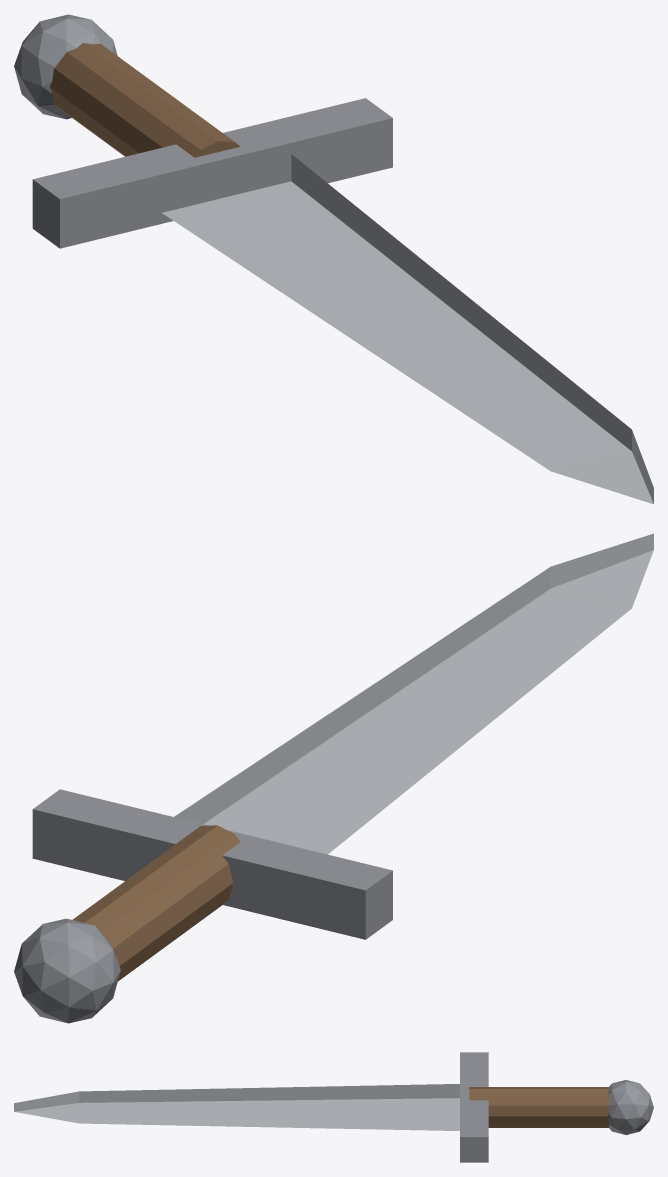
Rendered from clean_iron_broadsword.glb.
3 renders of one model, top to bottom at view 1: azimuth 30°, elevation 25°; view 2: azimuth 150°, elevation 25°; view 3: azimuth 270°, elevation 25°, orthographic. The views are drawn at different scales.
Visible parts, largest first — view 1: sword_0_0, sword_0_1, sword_0_2, sword_0_3; view 2: sword_0_0, sword_0_1, sword_0_2, sword_0_3; view 3: sword_0_0, sword_0_2, sword_0_1, sword_0_3.
Part boxes in pixels (box(x1,y1,x2,y2)): sword_0_0: box(162, 154, 653, 504); sword_0_1: box(32, 98, 392, 248); sword_0_2: box(50, 43, 240, 157); sword_0_3: box(14, 14, 117, 119); sword_0_0: box(174, 533, 653, 854); sword_0_1: box(32, 789, 392, 939); sword_0_2: box(72, 825, 240, 981); sword_0_3: box(14, 918, 120, 1023); sword_0_0: box(14, 1084, 459, 1130); sword_0_2: box(469, 1087, 609, 1127); sword_0_1: box(460, 1052, 488, 1162); sword_0_3: box(608, 1080, 653, 1134).
Size of the model in its own units: 1.27 by 0.3531 by 4.05.
